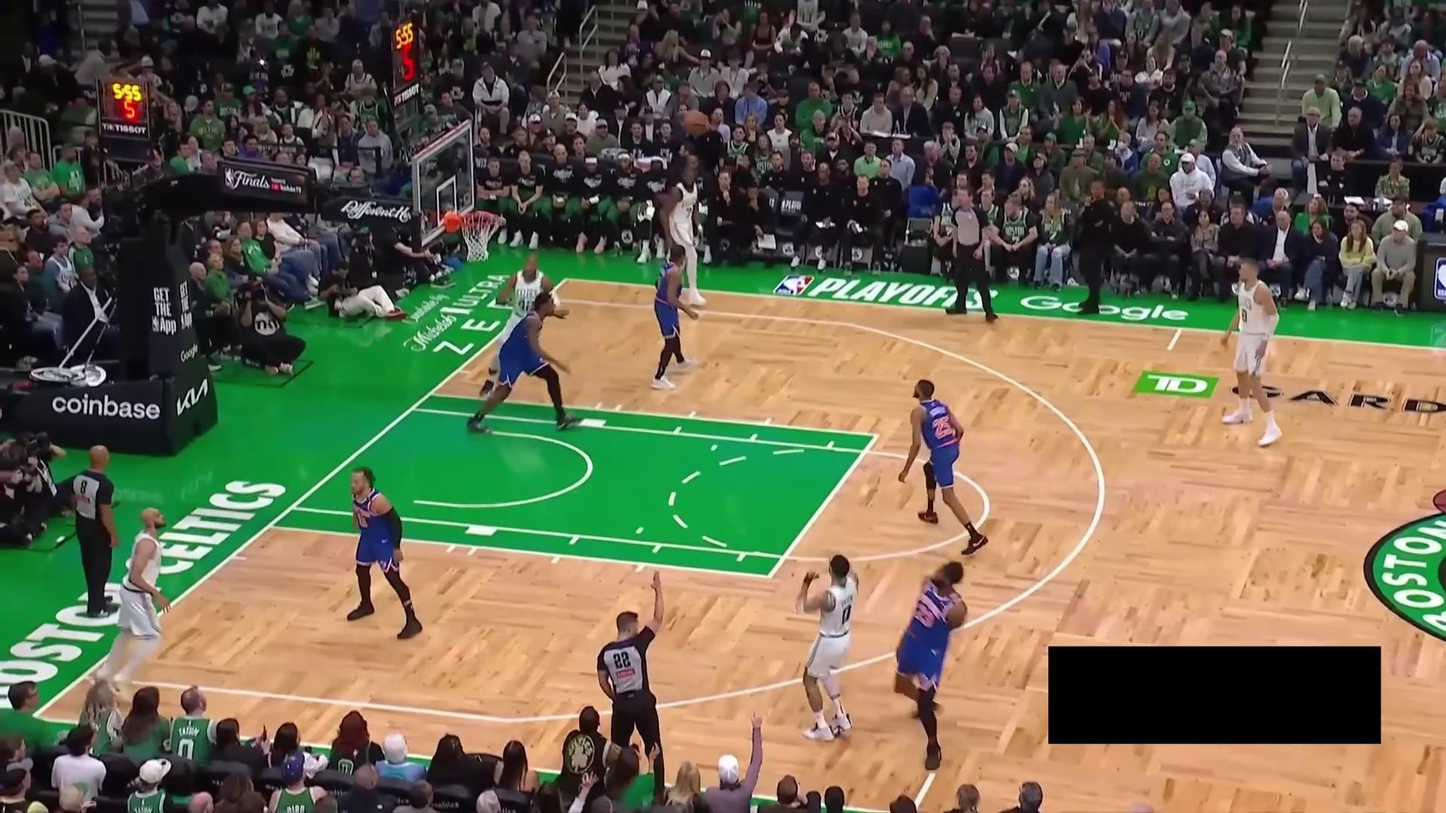ball: (681, 108, 709, 135)
number: (912, 602, 937, 628), (933, 415, 952, 441), (842, 602, 851, 626), (1240, 308, 1249, 323)
player: (892, 374, 990, 560), (892, 549, 972, 772), (467, 288, 584, 436), (94, 502, 176, 703), (335, 461, 424, 639), (792, 543, 862, 741), (1220, 256, 1287, 448), (477, 250, 564, 397), (658, 162, 714, 310), (649, 238, 696, 393)
referee: (594, 568, 672, 789), (63, 440, 121, 617), (944, 186, 1000, 322)
rim: (455, 209, 502, 229)
